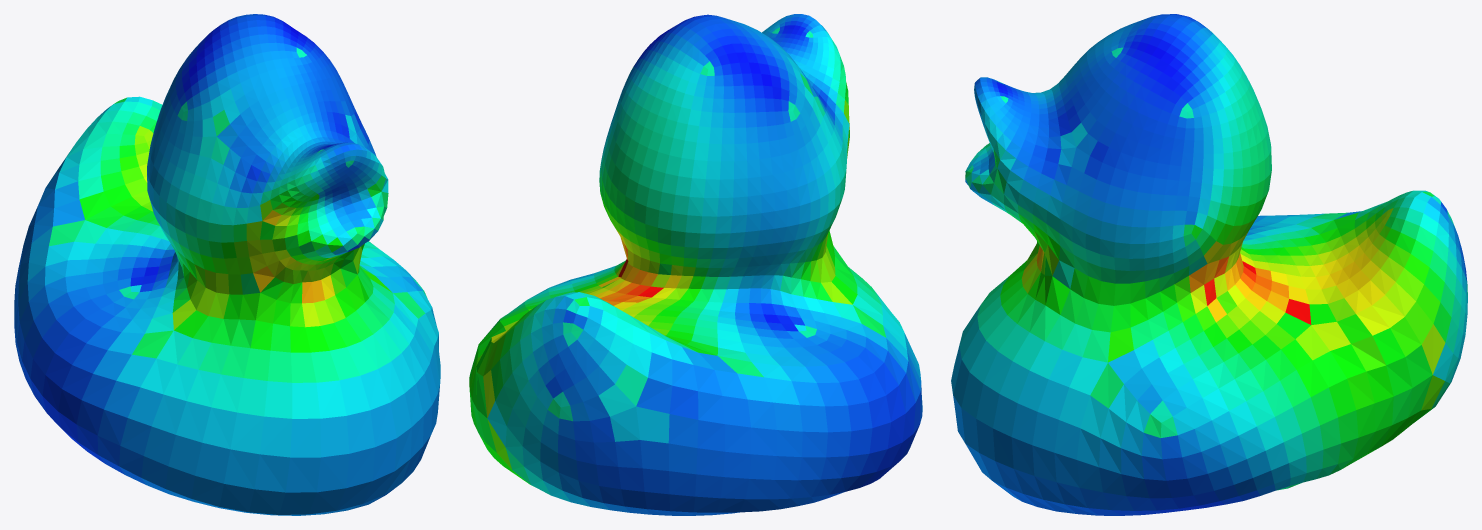
File: duck_quad6_opt_quality.obj
The picture shows the model from 3 angles, left to right: view 1: azimuth 30°, elevation 25°; view 2: azimuth 150°, elevation 25°; view 3: azimuth 270°, elevation 25°; orthographic projection. The views are drawn at different scales.
Bounding box in the file's own units: 69.55 × 79.06 × 81.92.
